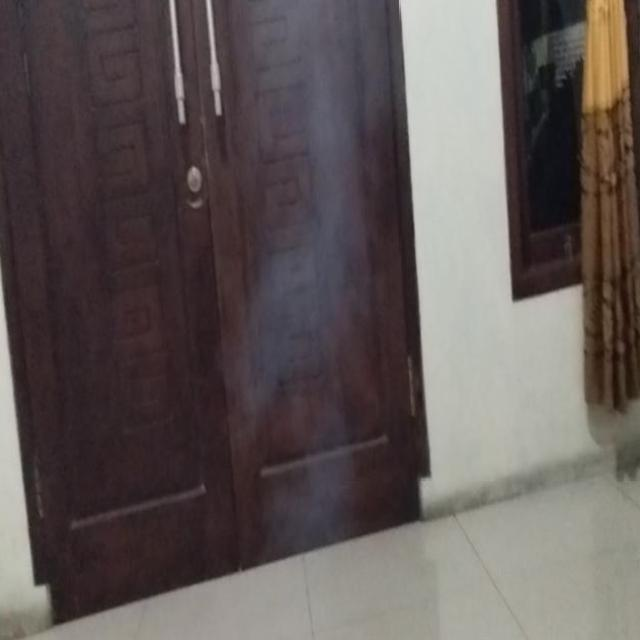fire: (231, 0, 372, 640)
